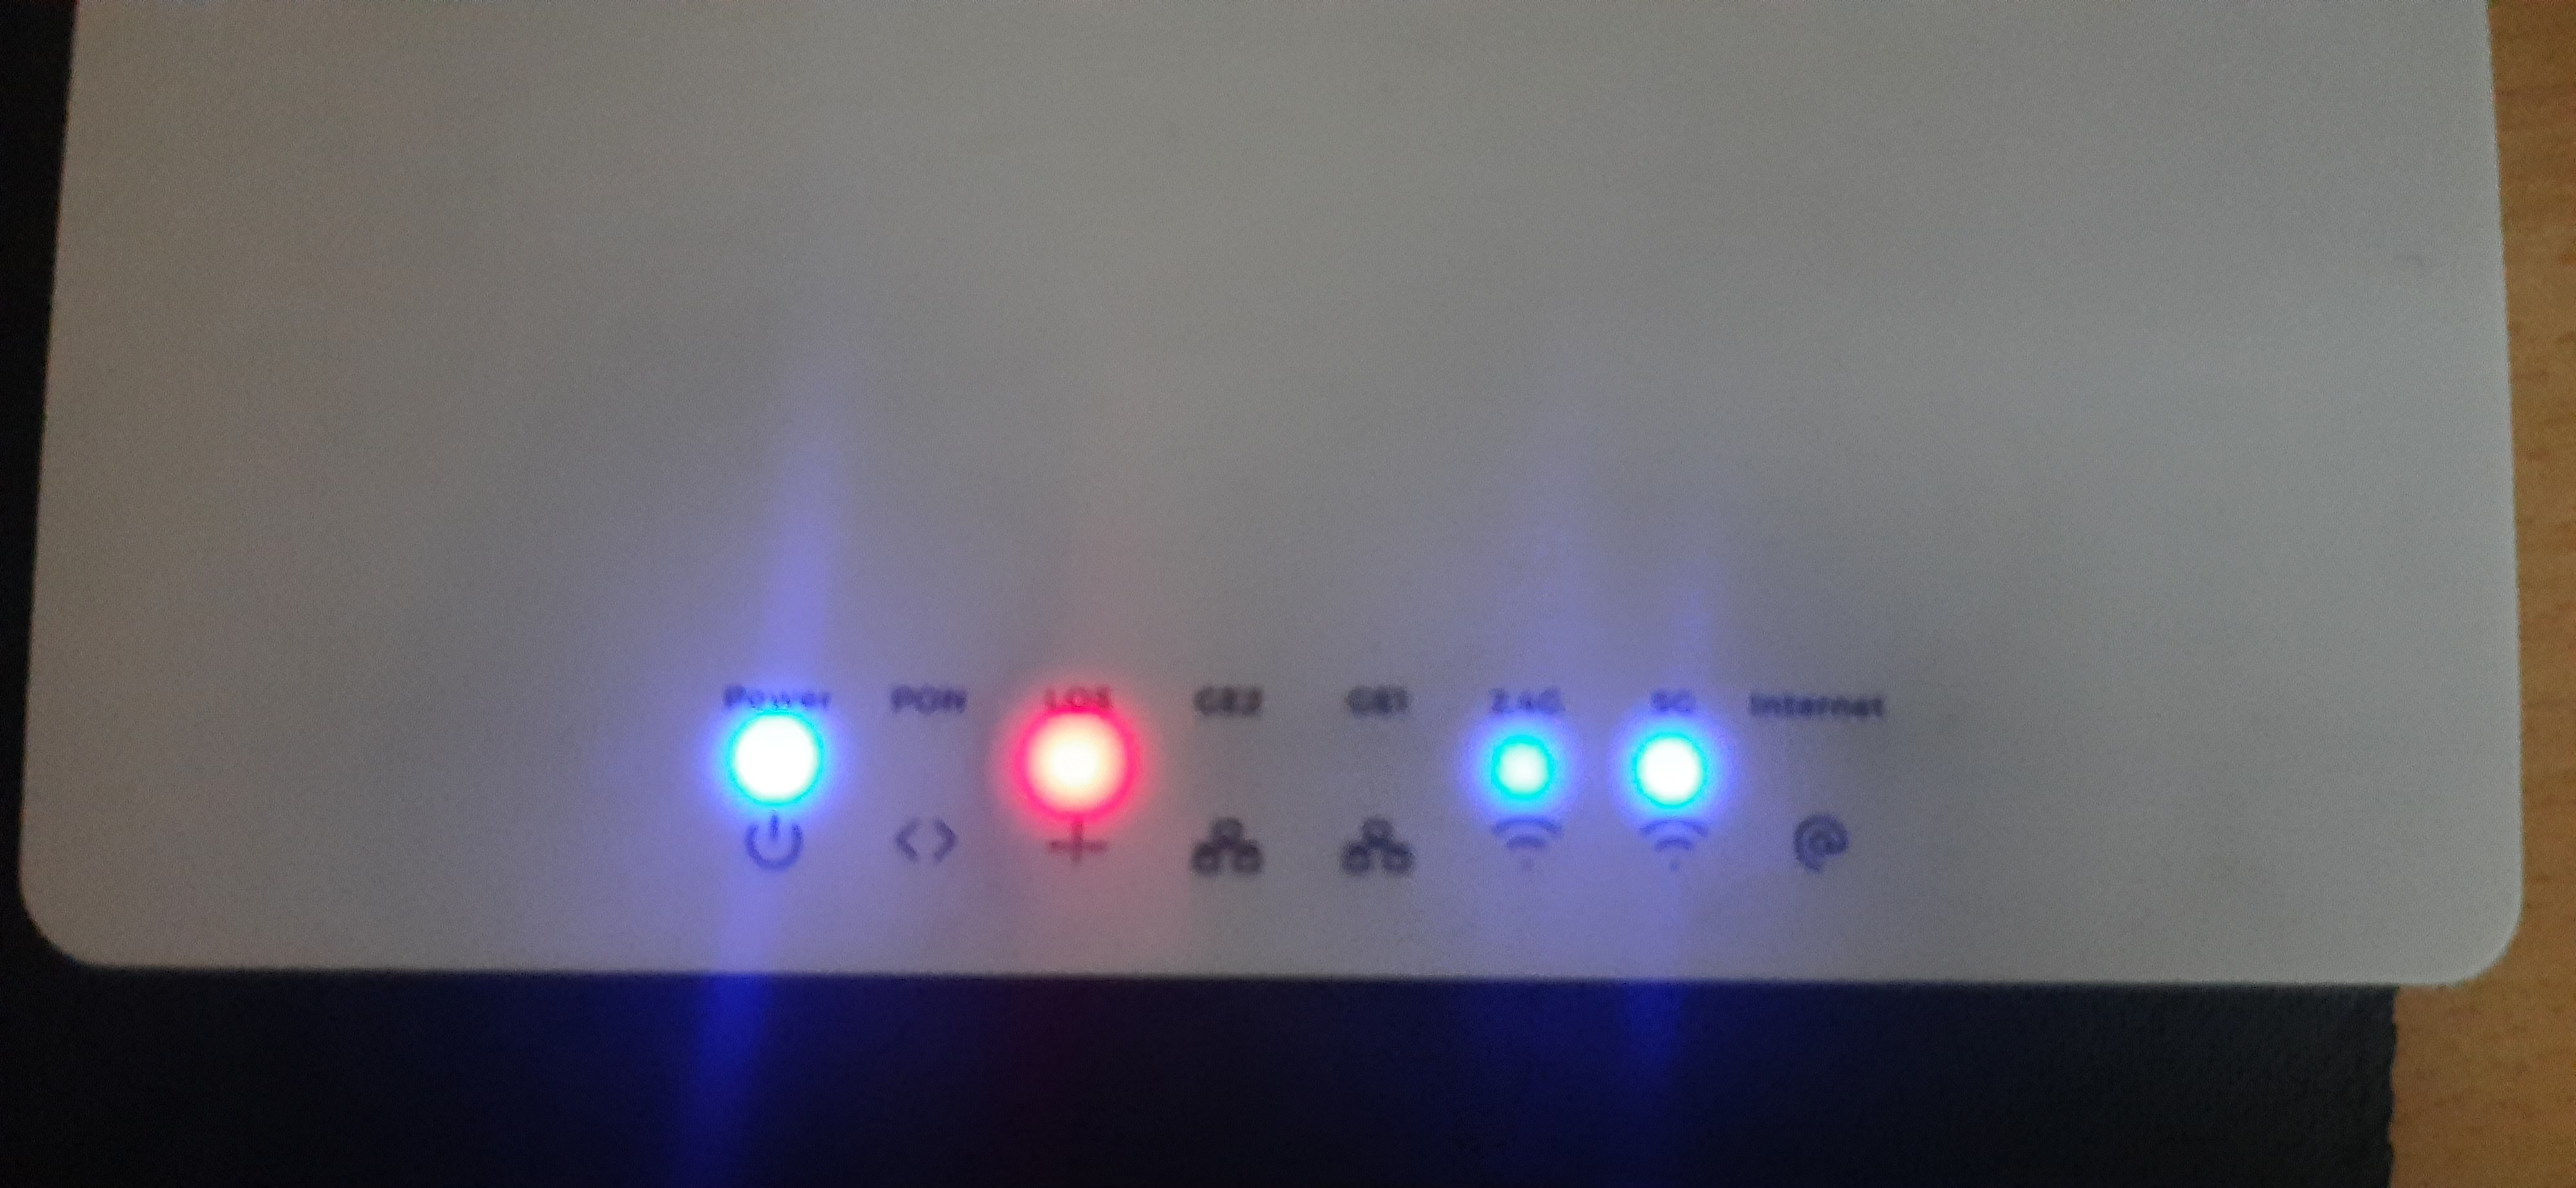LOSConnectionIssue: (982, 654, 1189, 937)
